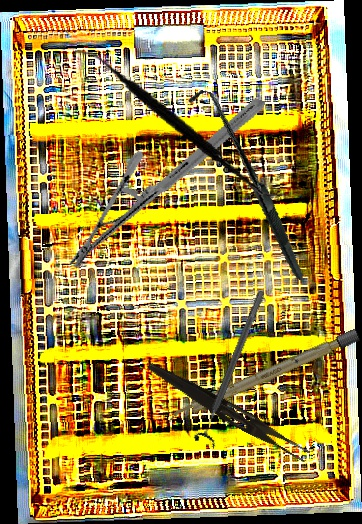Dressing Forceps: (142, 359, 314, 464)
Fixation Ring: (191, 286, 274, 449)
Hook Surgical: (152, 87, 342, 281)
Needle Holder: (68, 57, 266, 309)
Scalpel Handle: (165, 328, 361, 425)
Spatula Surgical: (61, 47, 299, 198)
